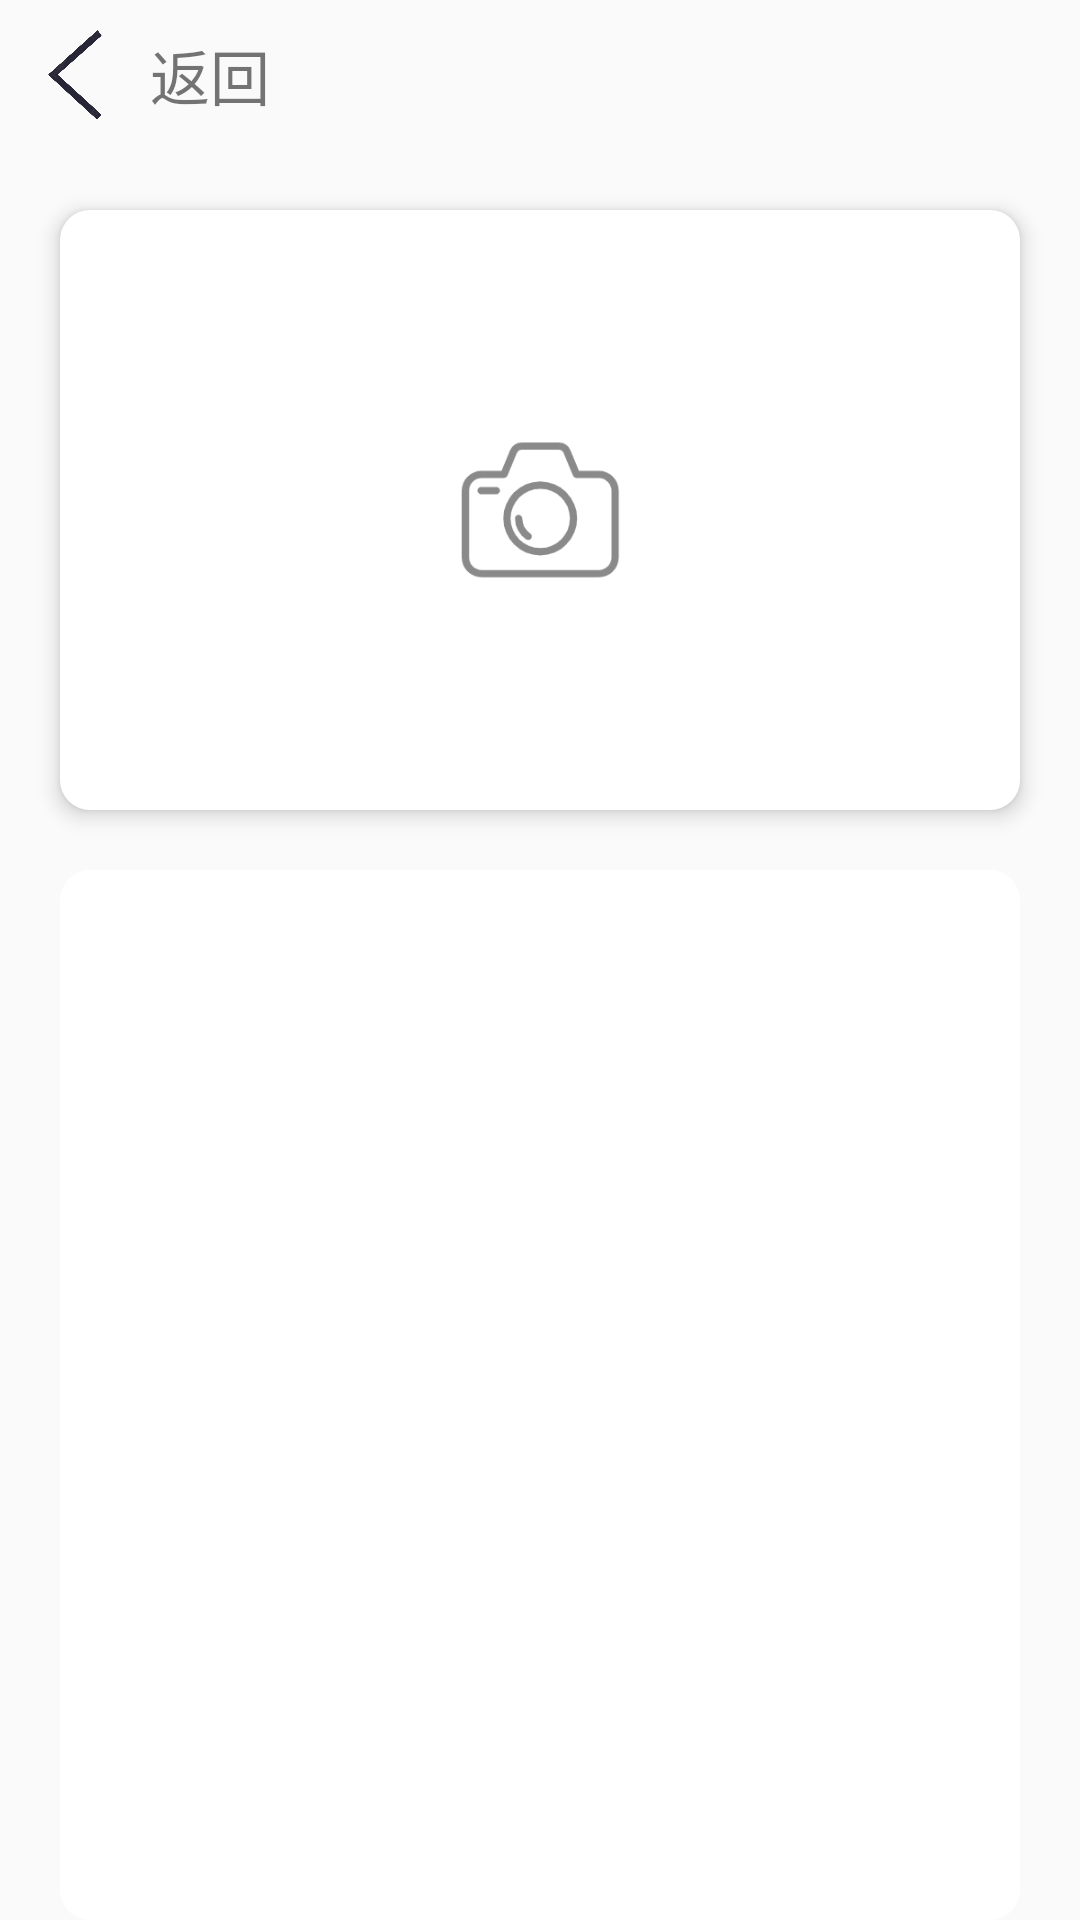

Icons on this 1080w x 1920h Android screen, each with its box as (x1, y1, x2, y2):
arrow left: (48, 30, 102, 119)
take photo camera: (461, 442, 619, 578)
